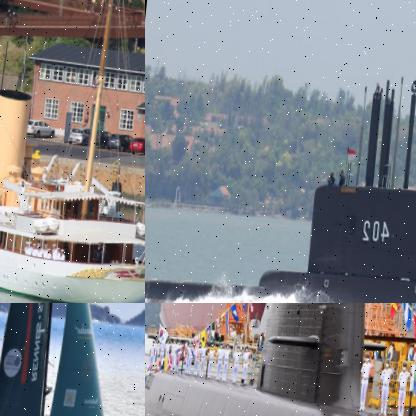Sails Boat: (0, 303, 144, 415)
Submarine: (145, 47, 415, 302), (145, 303, 415, 415)
Yacht: (0, 0, 144, 302)
